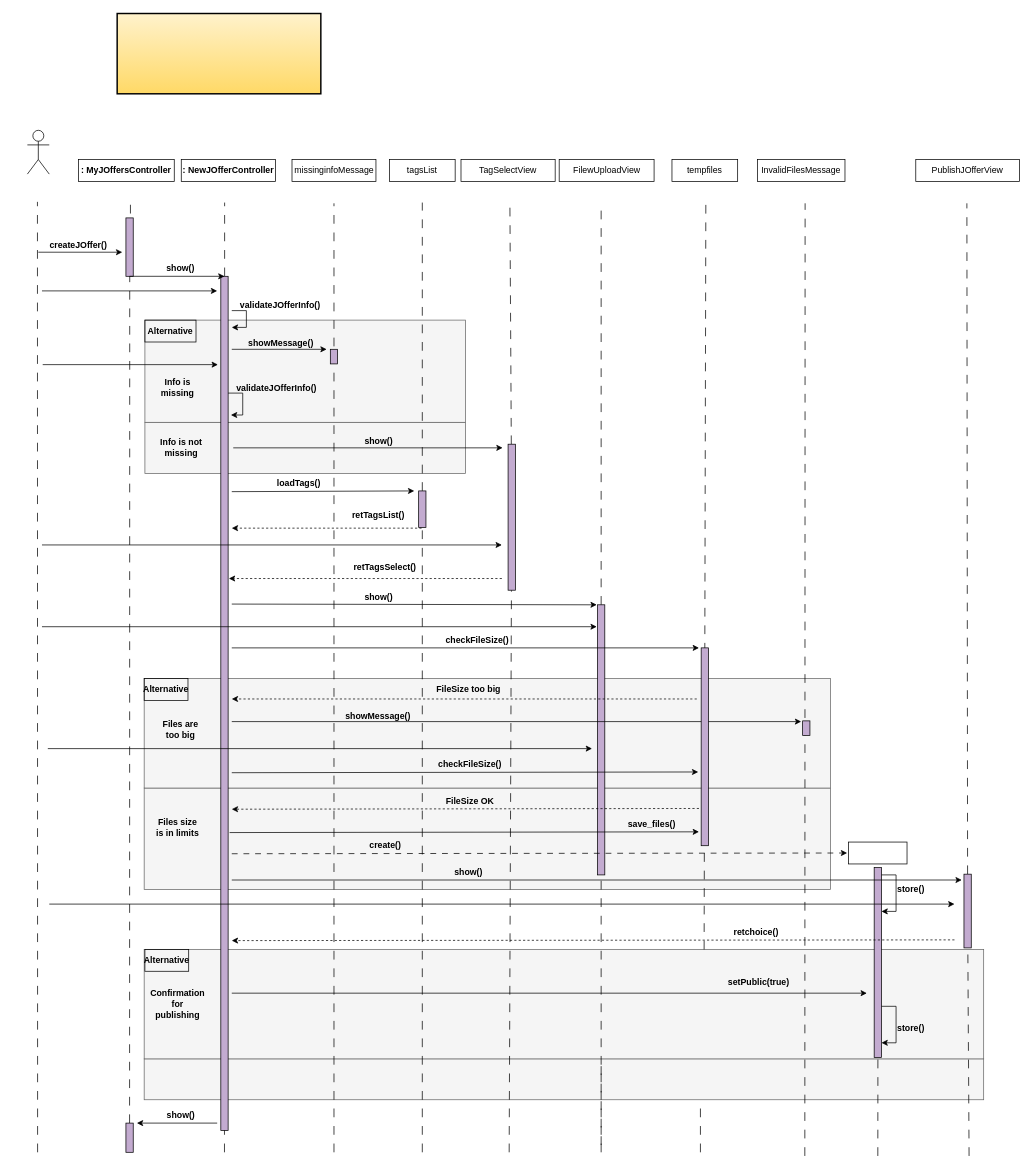
Image size: 1032x1169. Some labels were removed from this diagram. The shapes that lost their labels are listed below. From the top down, each one's centre as x and y in pixels, then its label:
point (218, 53): 1 HANDLER FOR THE WHOLE PROCEDURE
point (38, 152): Πολιτιστικός Οργανισμός
point (877, 852): New : JOffer
point (563, 1079): Confirmation for saving
